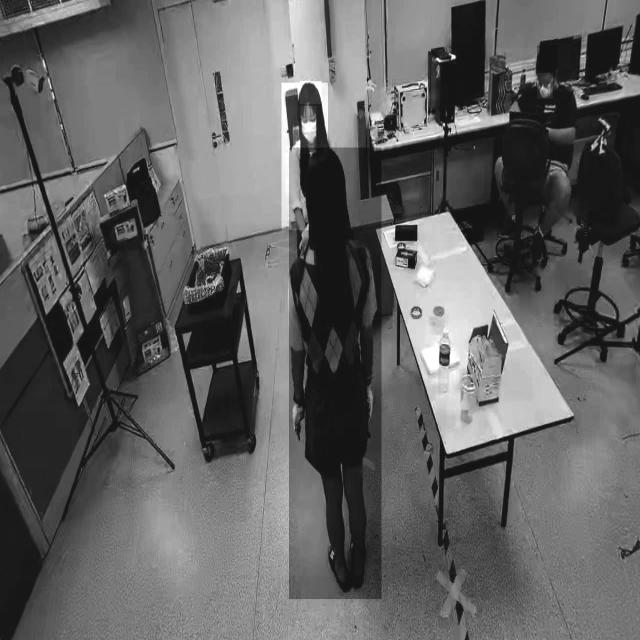face_mask: (300, 106, 316, 154), (537, 73, 553, 99)
head_nohelmet: (305, 146, 347, 188), (536, 45, 558, 71), (300, 81, 322, 105)
person: (288, 148, 382, 600), (493, 48, 589, 260), (281, 83, 328, 230)
